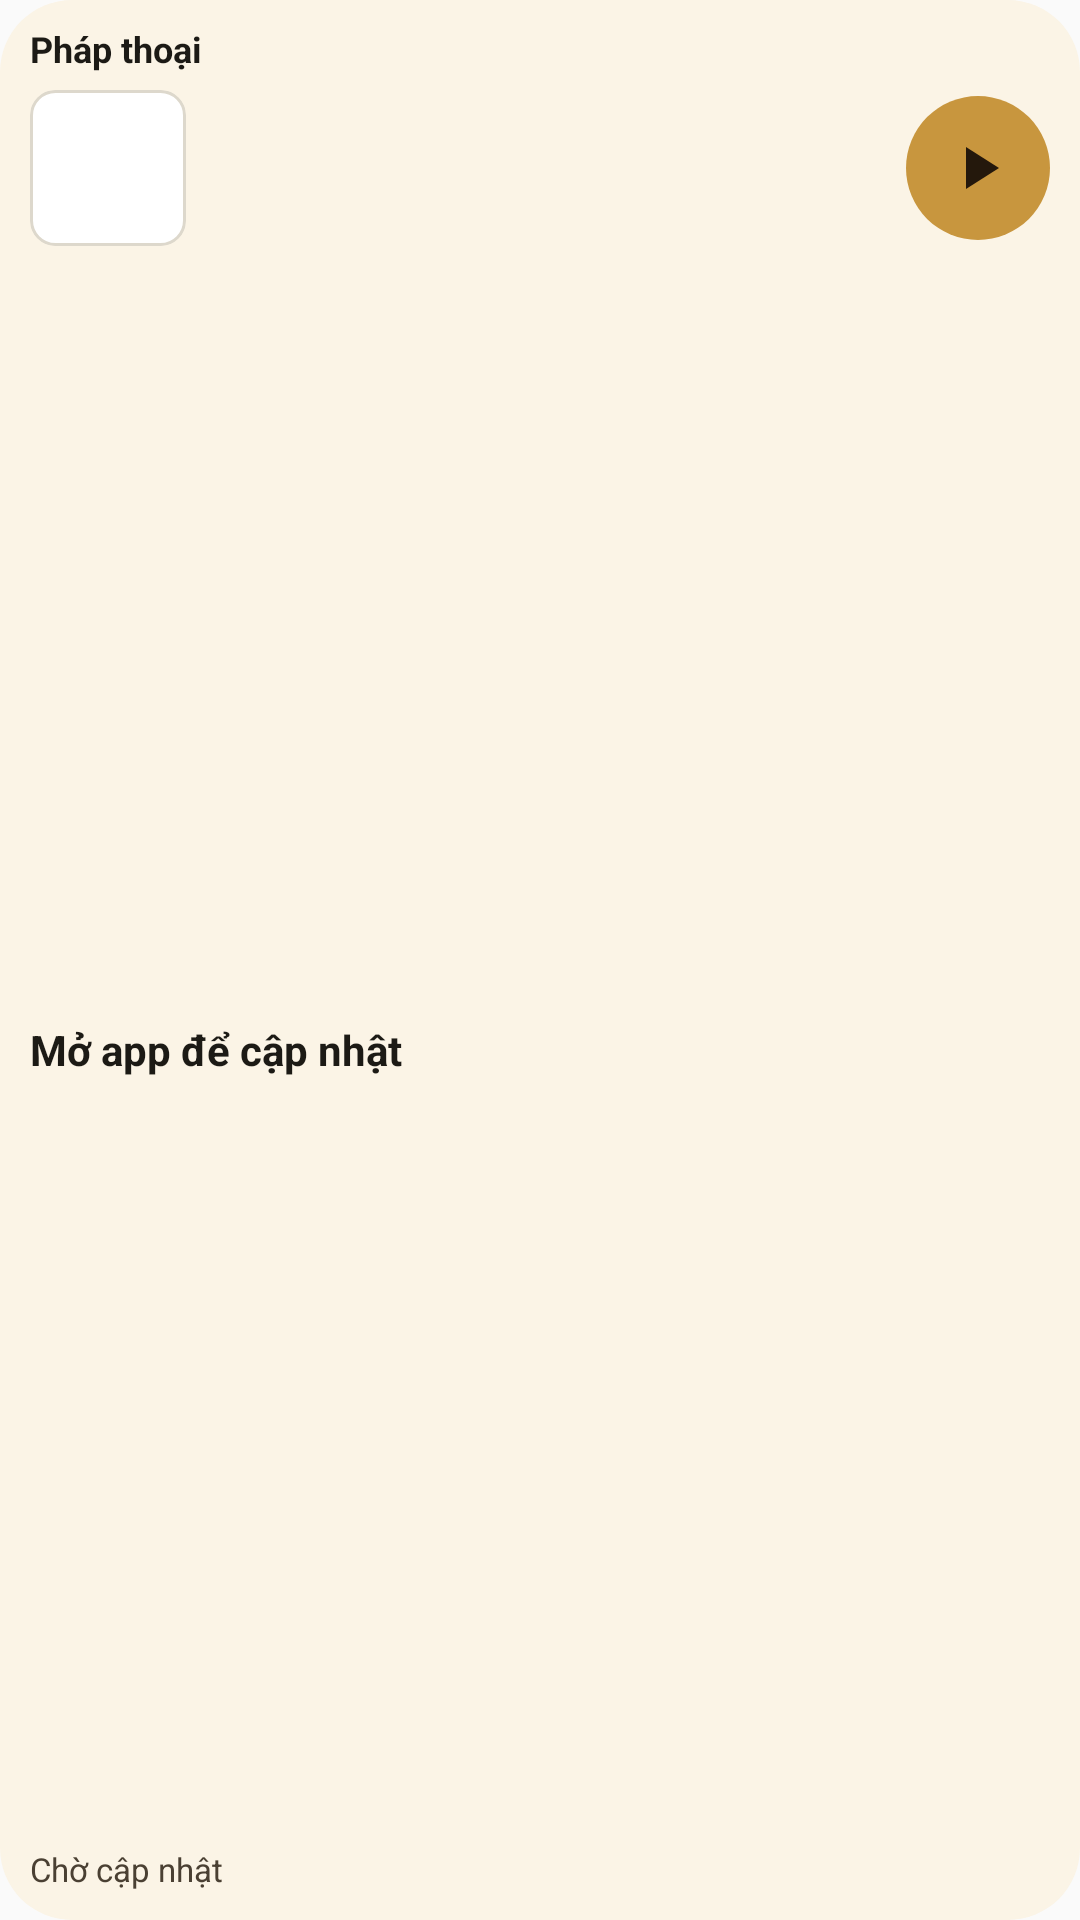

Point at icon controls on the screen. Image size 1080px x 1920px, points as (x,y).
Phát tiếp: (978,168)
